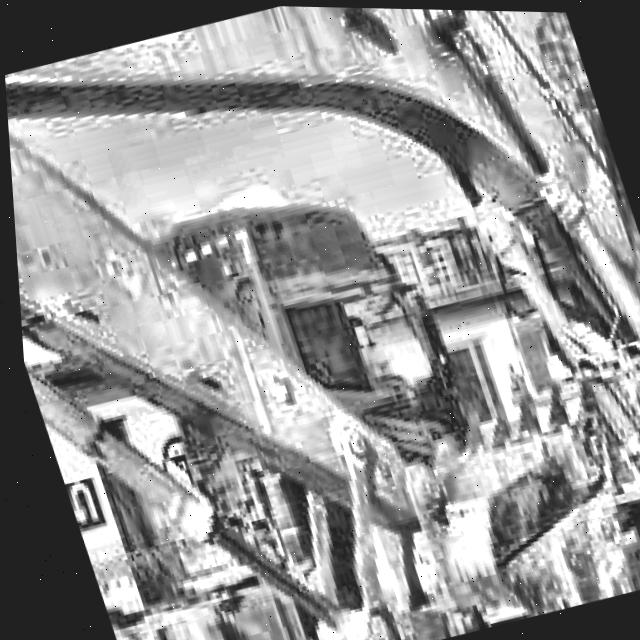dump_truck: (7, 128, 528, 640)
excavator: (0, 0, 640, 640)
